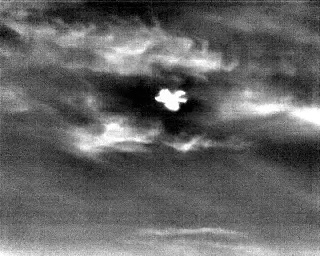HELICOPTER: (153, 83, 190, 116)
